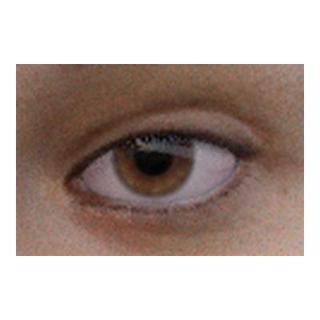pupil: (135, 138, 172, 176)
